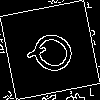Q: (25, 25, 87, 85)
